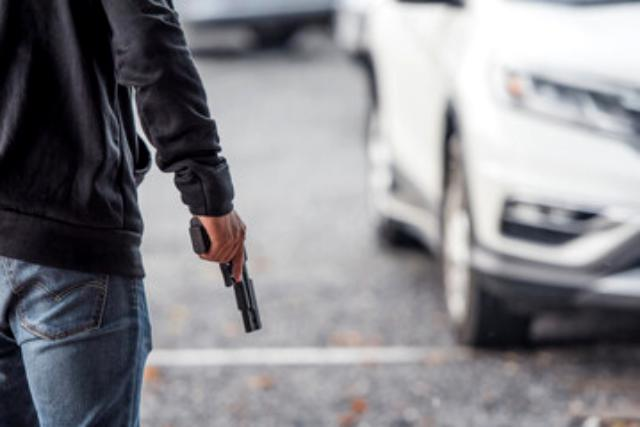pistol: (179, 204, 265, 340)
